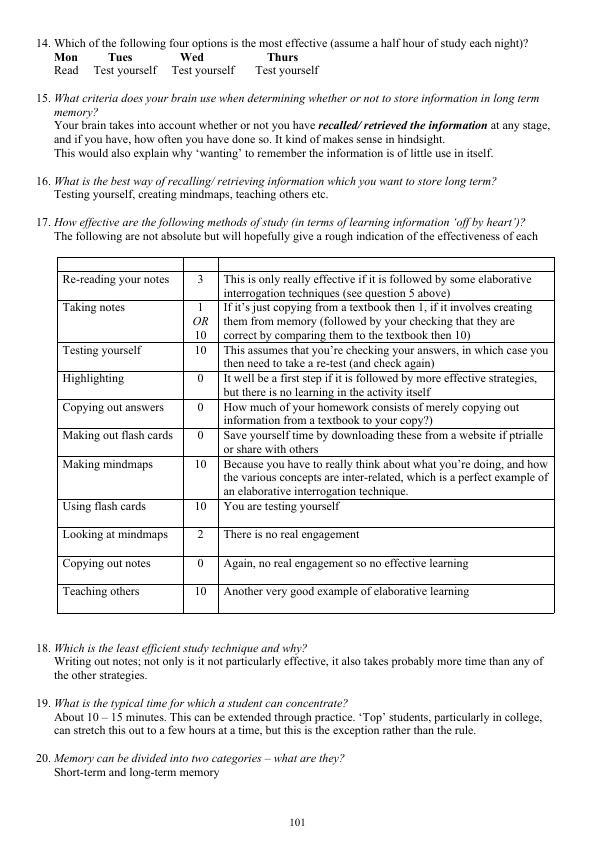table: (51, 251, 560, 620)
text: (33, 89, 556, 164), (31, 32, 542, 80), (34, 696, 554, 743), (33, 637, 558, 683), (31, 215, 547, 246), (35, 172, 504, 204), (33, 751, 353, 783)
